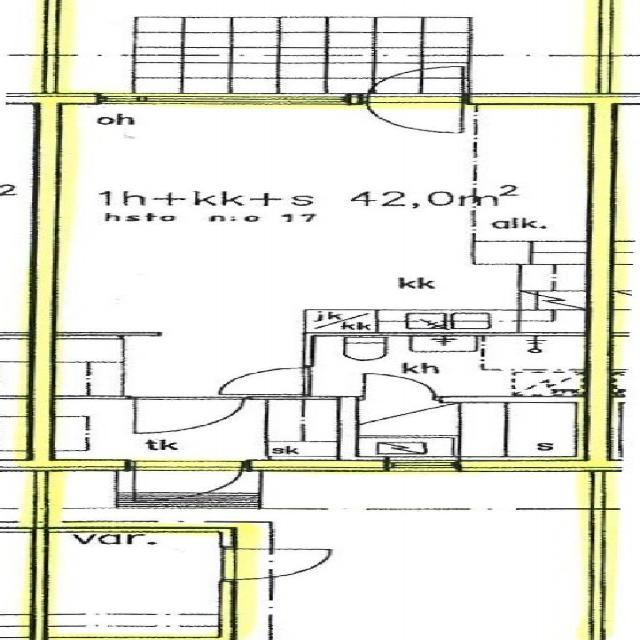door: (134, 459, 242, 506), (368, 93, 465, 136), (368, 61, 465, 104), (135, 396, 243, 434), (220, 549, 328, 579), (224, 368, 314, 393), (364, 372, 434, 402)
